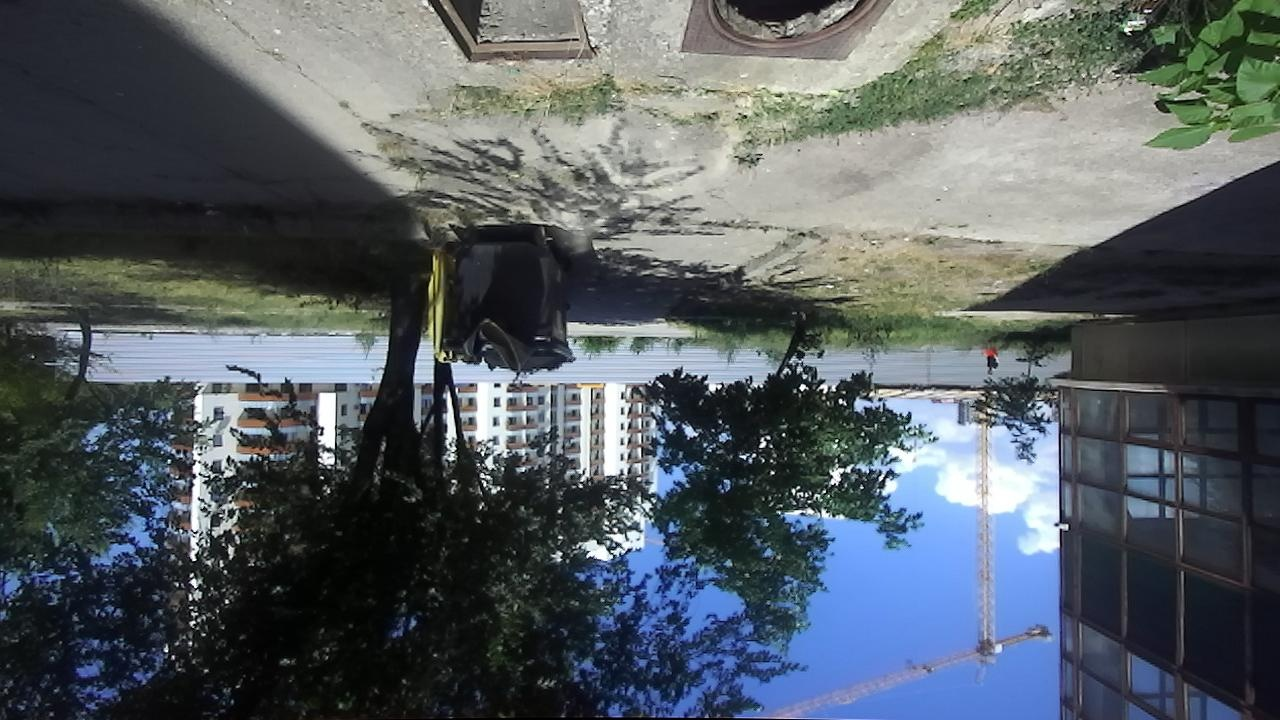drain: (423, 0, 597, 64), (697, 0, 889, 51)
